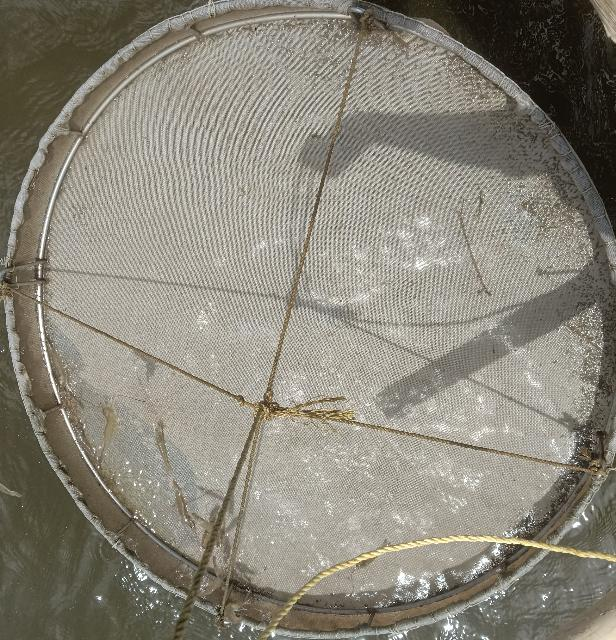shrimp: (47, 338, 69, 399), (97, 401, 118, 464), (173, 481, 194, 528), (155, 424, 174, 474)
